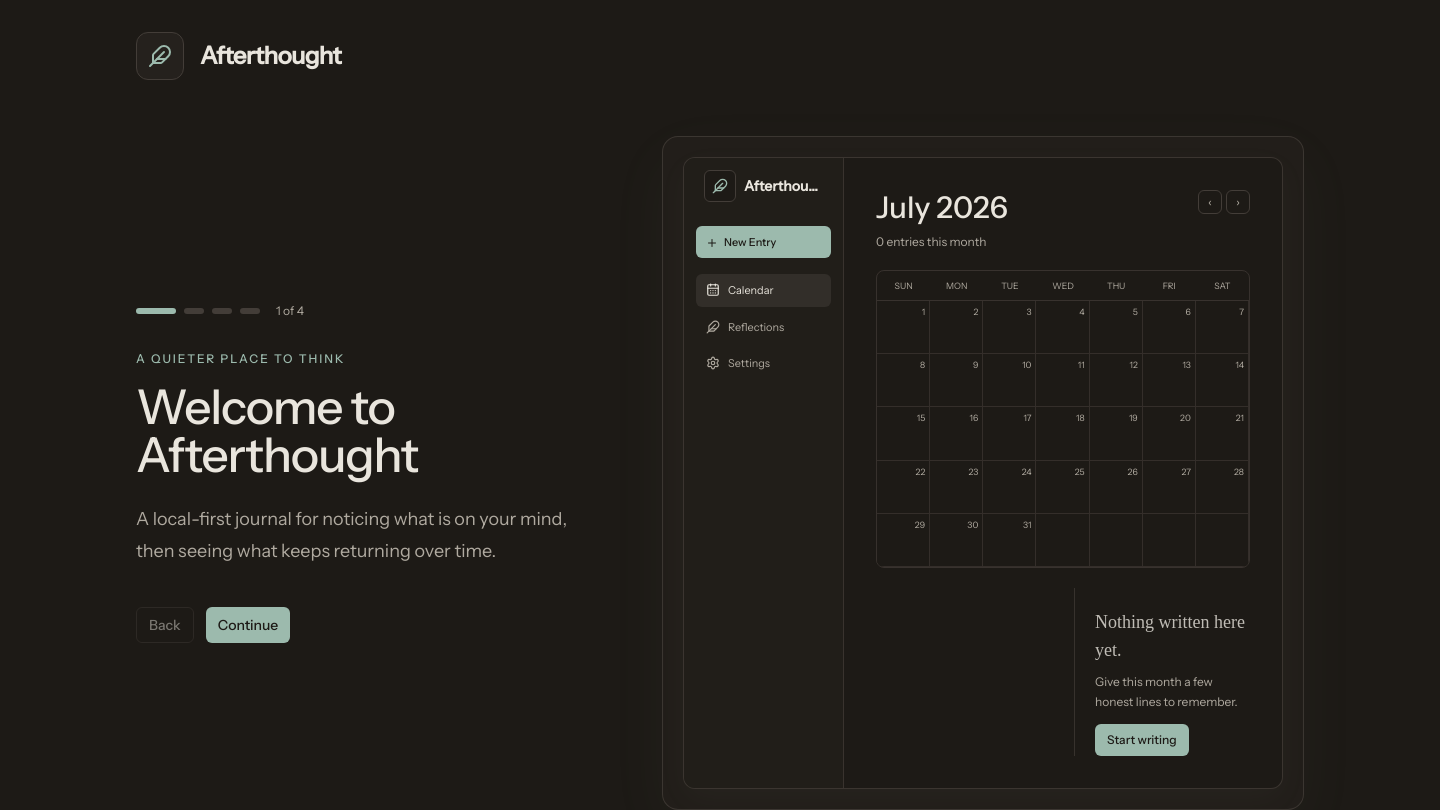
OnboardingPage › moves backward to the previous slide
Click the button "Continue" at (248, 625), box [206,607,290,643]
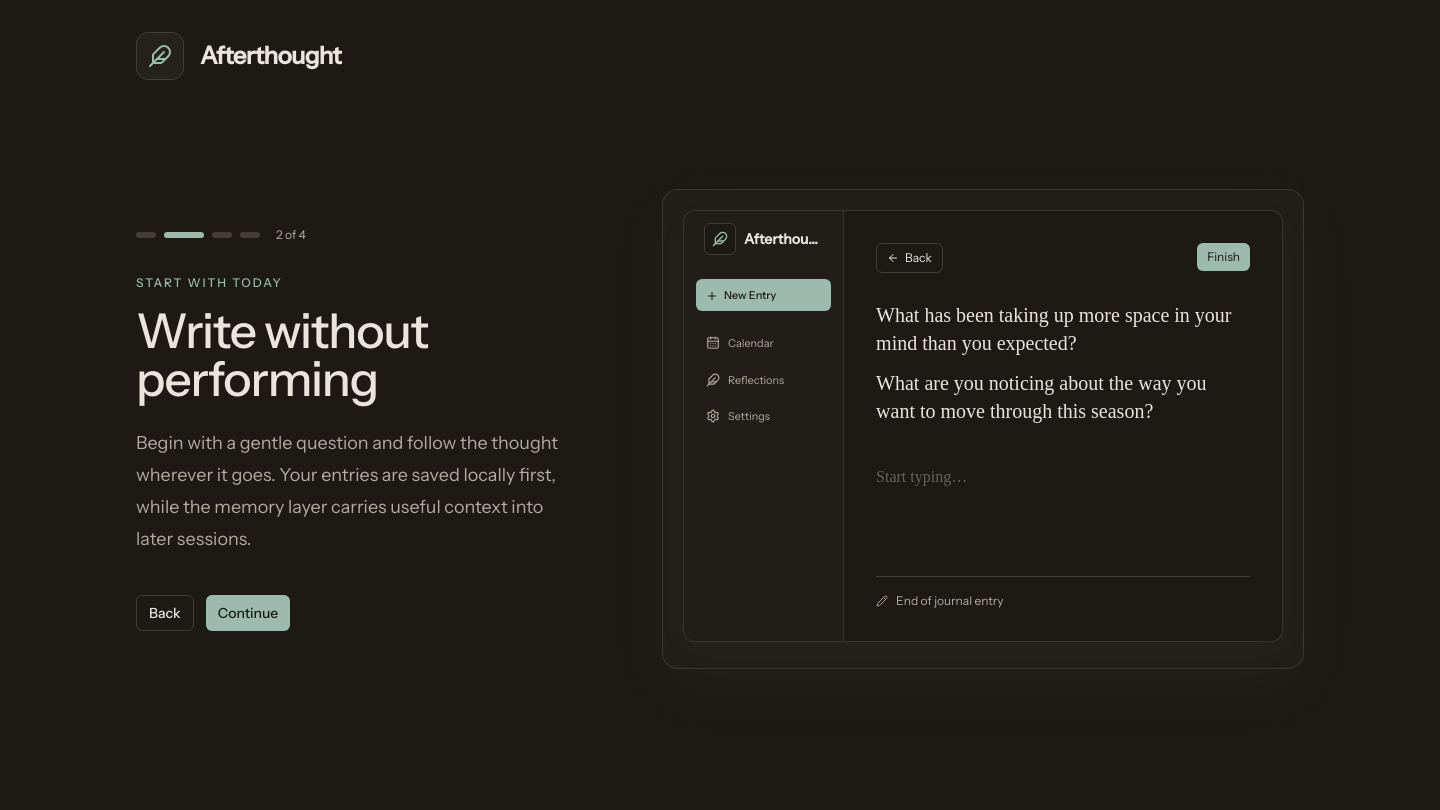
Click the button with aria-label "Previous slide" at (165, 613), box [136,595,194,631]
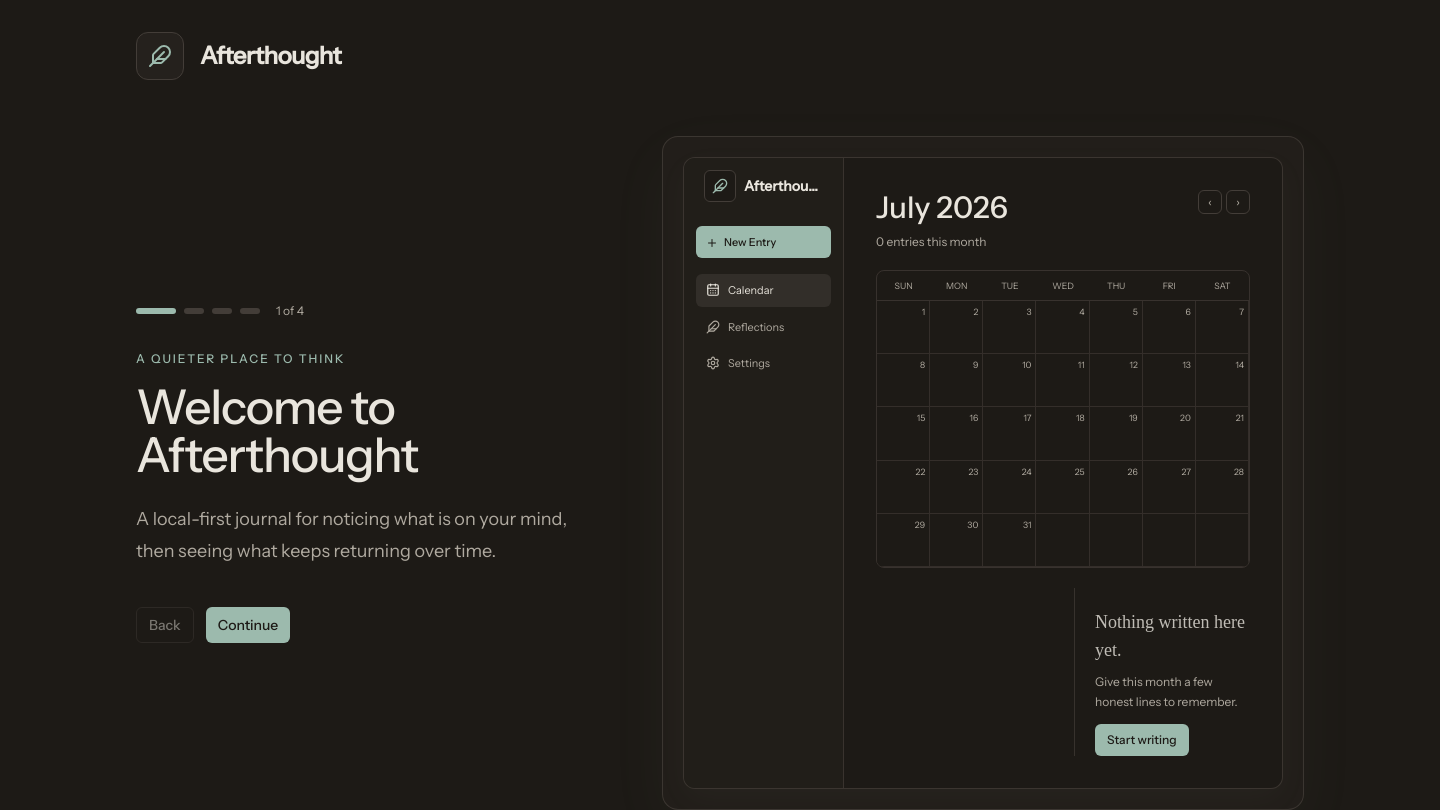
Check: the heading "Welcome to Afterthought" is shown, box [136,377,418,484]
Check: the text "1 of 4" is shown, box [276,303,304,319]
